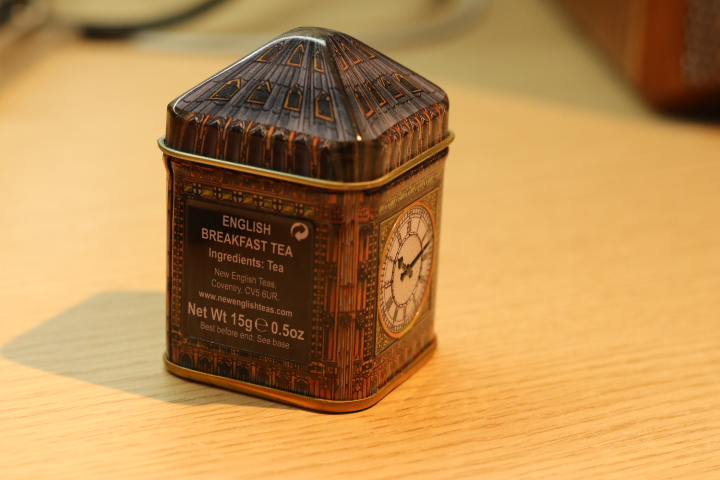Big Ben: (150, 21, 462, 424)
